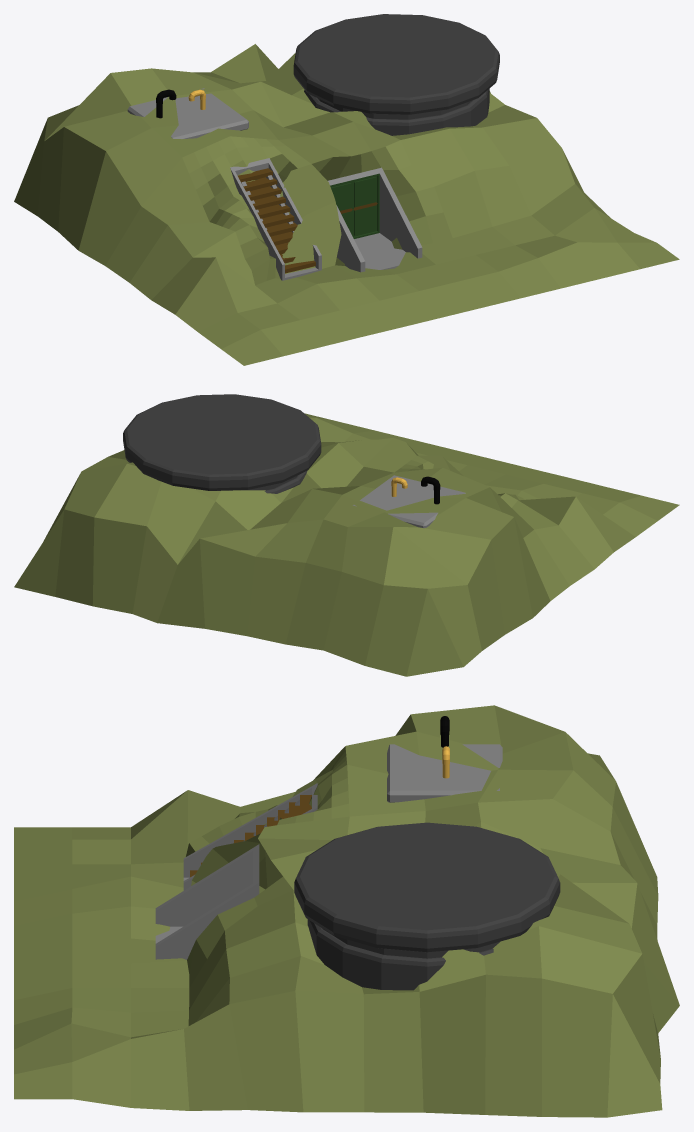
The model's file is Bat_Cave.fbx.
3 renders of one model, top to bottom at view 1: azimuth 30°, elevation 25°; view 2: azimuth 150°, elevation 25°; view 3: azimuth 270°, elevation 25°, orthographic. The views are drawn at different scales.
Visible parts, largest first — view 1: Plane.004; view 2: Plane.004; view 3: Plane.004.
Boxes of the visible parts, <box> form: Plane.004: <box>14,14,679,365</box>; Plane.004: <box>14,394,679,676</box>; Plane.004: <box>14,705,679,1117</box>.
Bounding box in the file's own units: 624 × 184 × 621.
